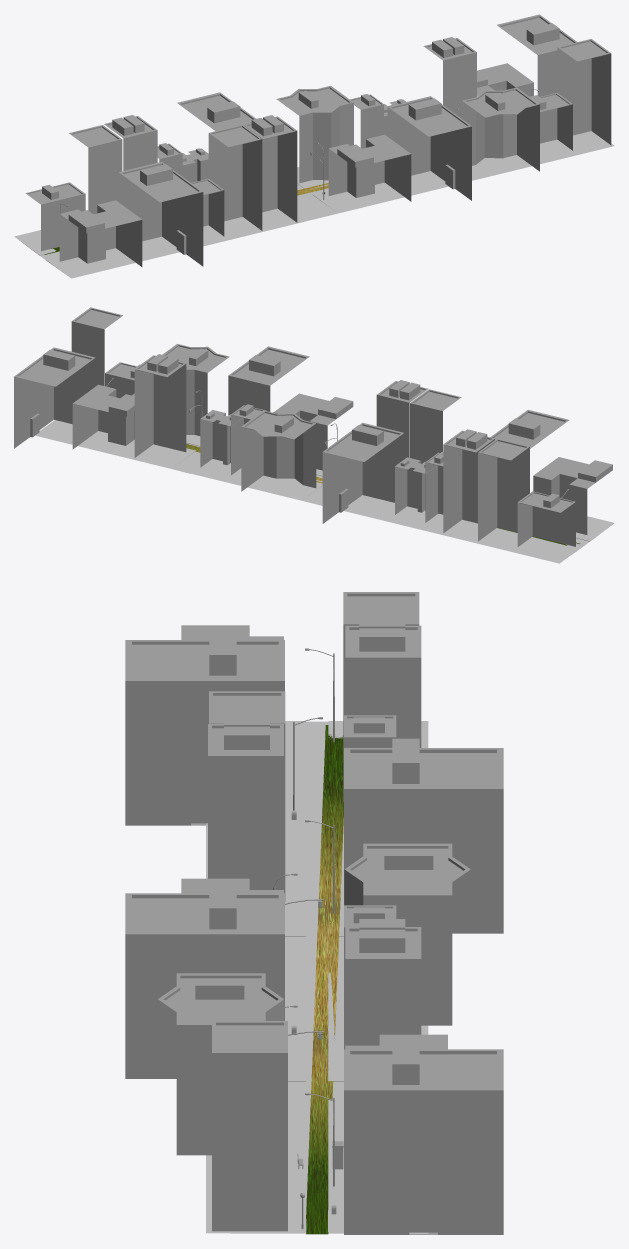
Rendered from CityPatch_full_02-Combined.fbx.
3 views of the same model, one above another, from view 1: azimuth 30°, elevation 25°; view 2: azimuth 150°, elevation 25°; view 3: azimuth 270°, elevation 25° (orthographic). The views are drawn at different scales.
Visible parts, largest first — view 1: CityMesh; view 2: CityMesh; view 3: CityMesh, RoadMesh.
Part boxes in pixels (box(x1,y1,x2,y2)): CityMesh: box(14, 14, 614, 278); CityMesh: box(14, 307, 614, 563); CityMesh: box(125, 592, 503, 1234); RoadMesh: box(306, 725, 343, 1234).
Size of the model in its own units: 76914 by 13331 by 23917.
